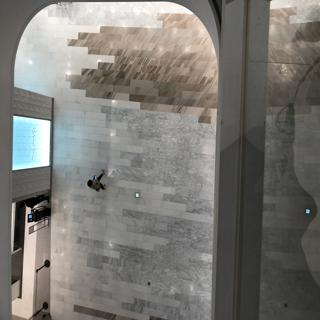person: (85, 170, 118, 200)
